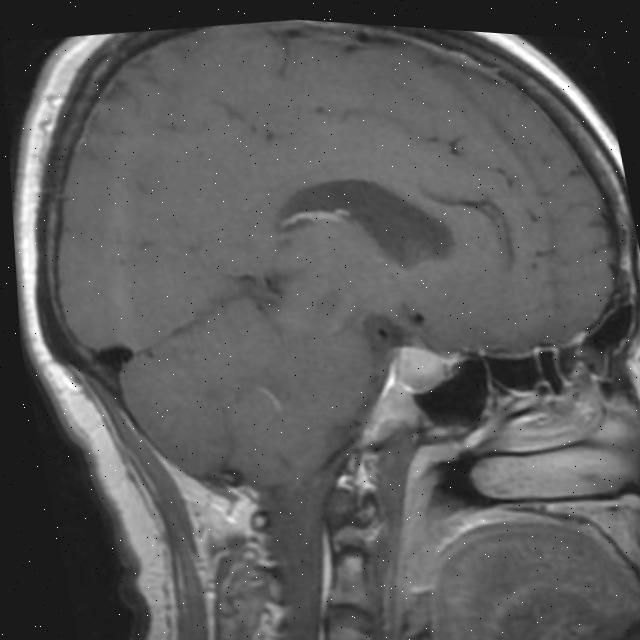Pituitary: (391, 340, 452, 399)
